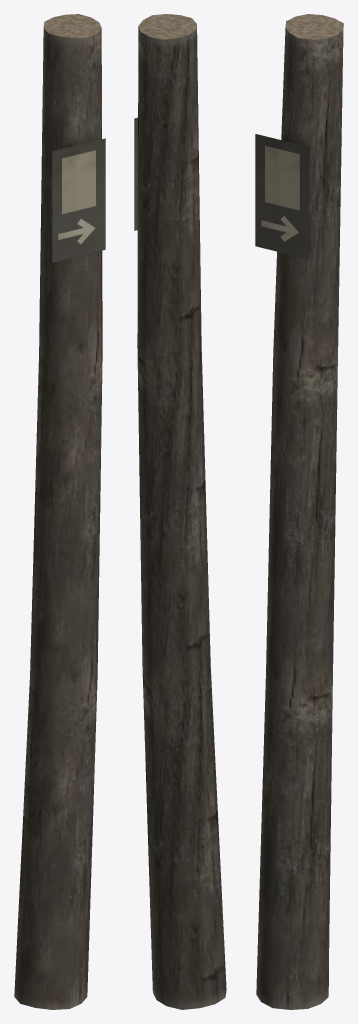
The model's file is trailmarker.glb.
3 renders of one model, left to right at view 1: azimuth 30°, elevation 25°; view 2: azimuth 210°, elevation 25°; view 3: azimuth 330°, elevation 25°, orthographic.
Visible parts, largest first — view 1: trailmarker; view 2: trailmarker; view 3: trailmarker.
Boxes of the visible parts, bbox=[...] form: trailmarker: bbox=[14, 14, 105, 1009]; trailmarker: bbox=[134, 14, 226, 1009]; trailmarker: bbox=[255, 14, 343, 1009].
Bounding box in the file's own units: 0.1266 × 1.47 × 0.1052.
1 material, 1 textured.
